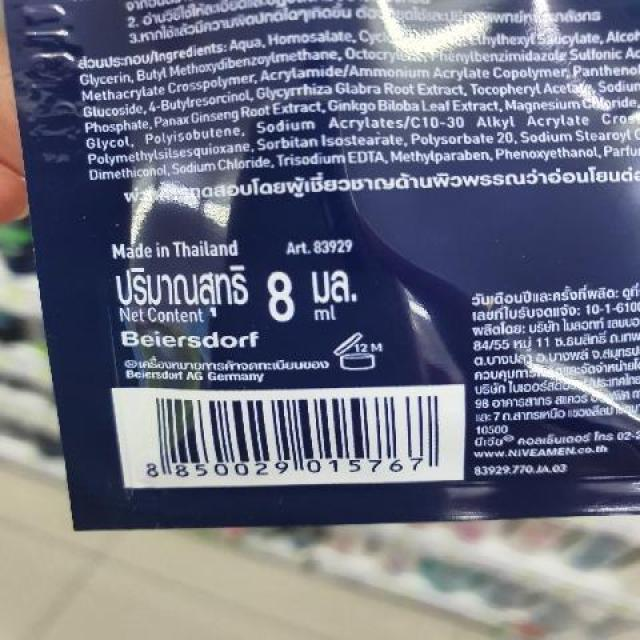Barcode: (127, 388, 464, 481)
